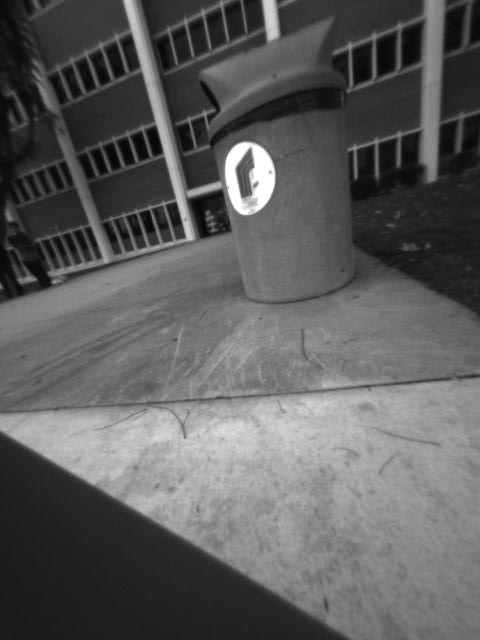trashcan: (192, 15, 372, 304)
